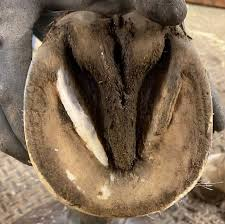horsesole: (23, 32, 212, 217)
